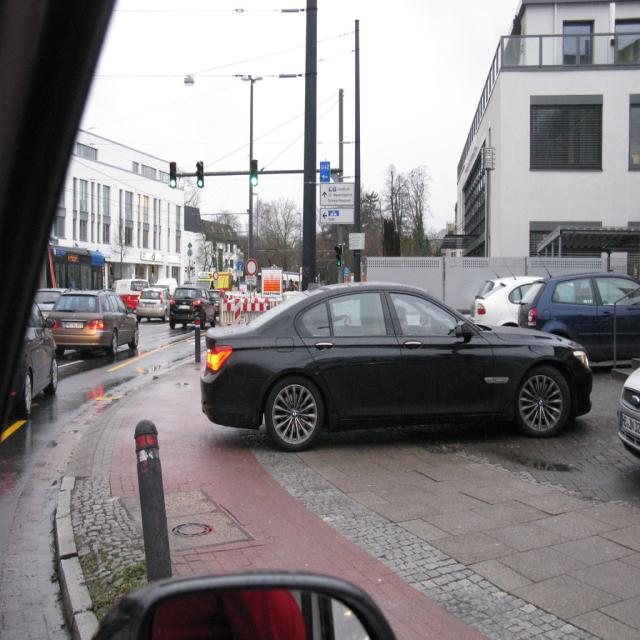car: (196, 277, 594, 444), (520, 274, 639, 358), (46, 290, 139, 358), (475, 275, 577, 324), (168, 286, 217, 329), (617, 365, 639, 457), (136, 285, 178, 317)
